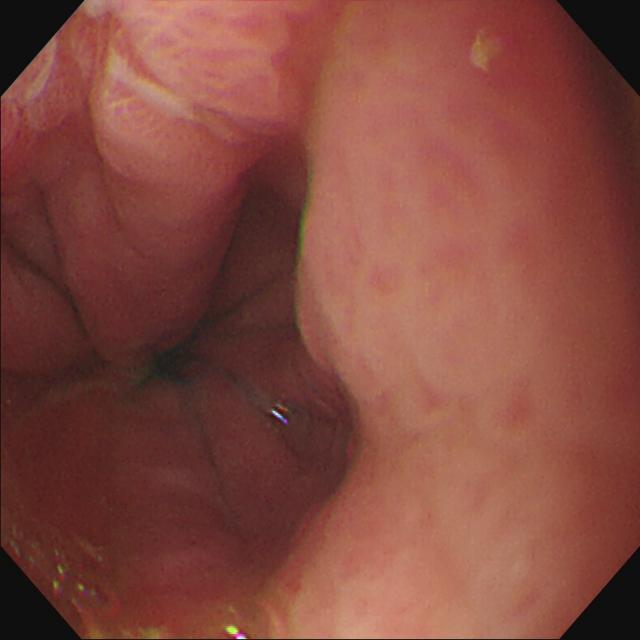A: (10, 11, 220, 143)
E: (146, 340, 211, 385)
U: (215, 612, 261, 640), (269, 397, 293, 430)
